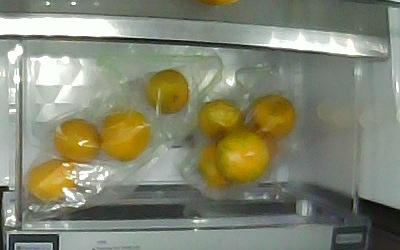tangerine_vinyl: (98, 110, 153, 162), (218, 133, 272, 181), (247, 95, 302, 139), (25, 160, 81, 202), (197, 99, 244, 140), (147, 70, 190, 114), (198, 143, 234, 193), (55, 121, 99, 160)
